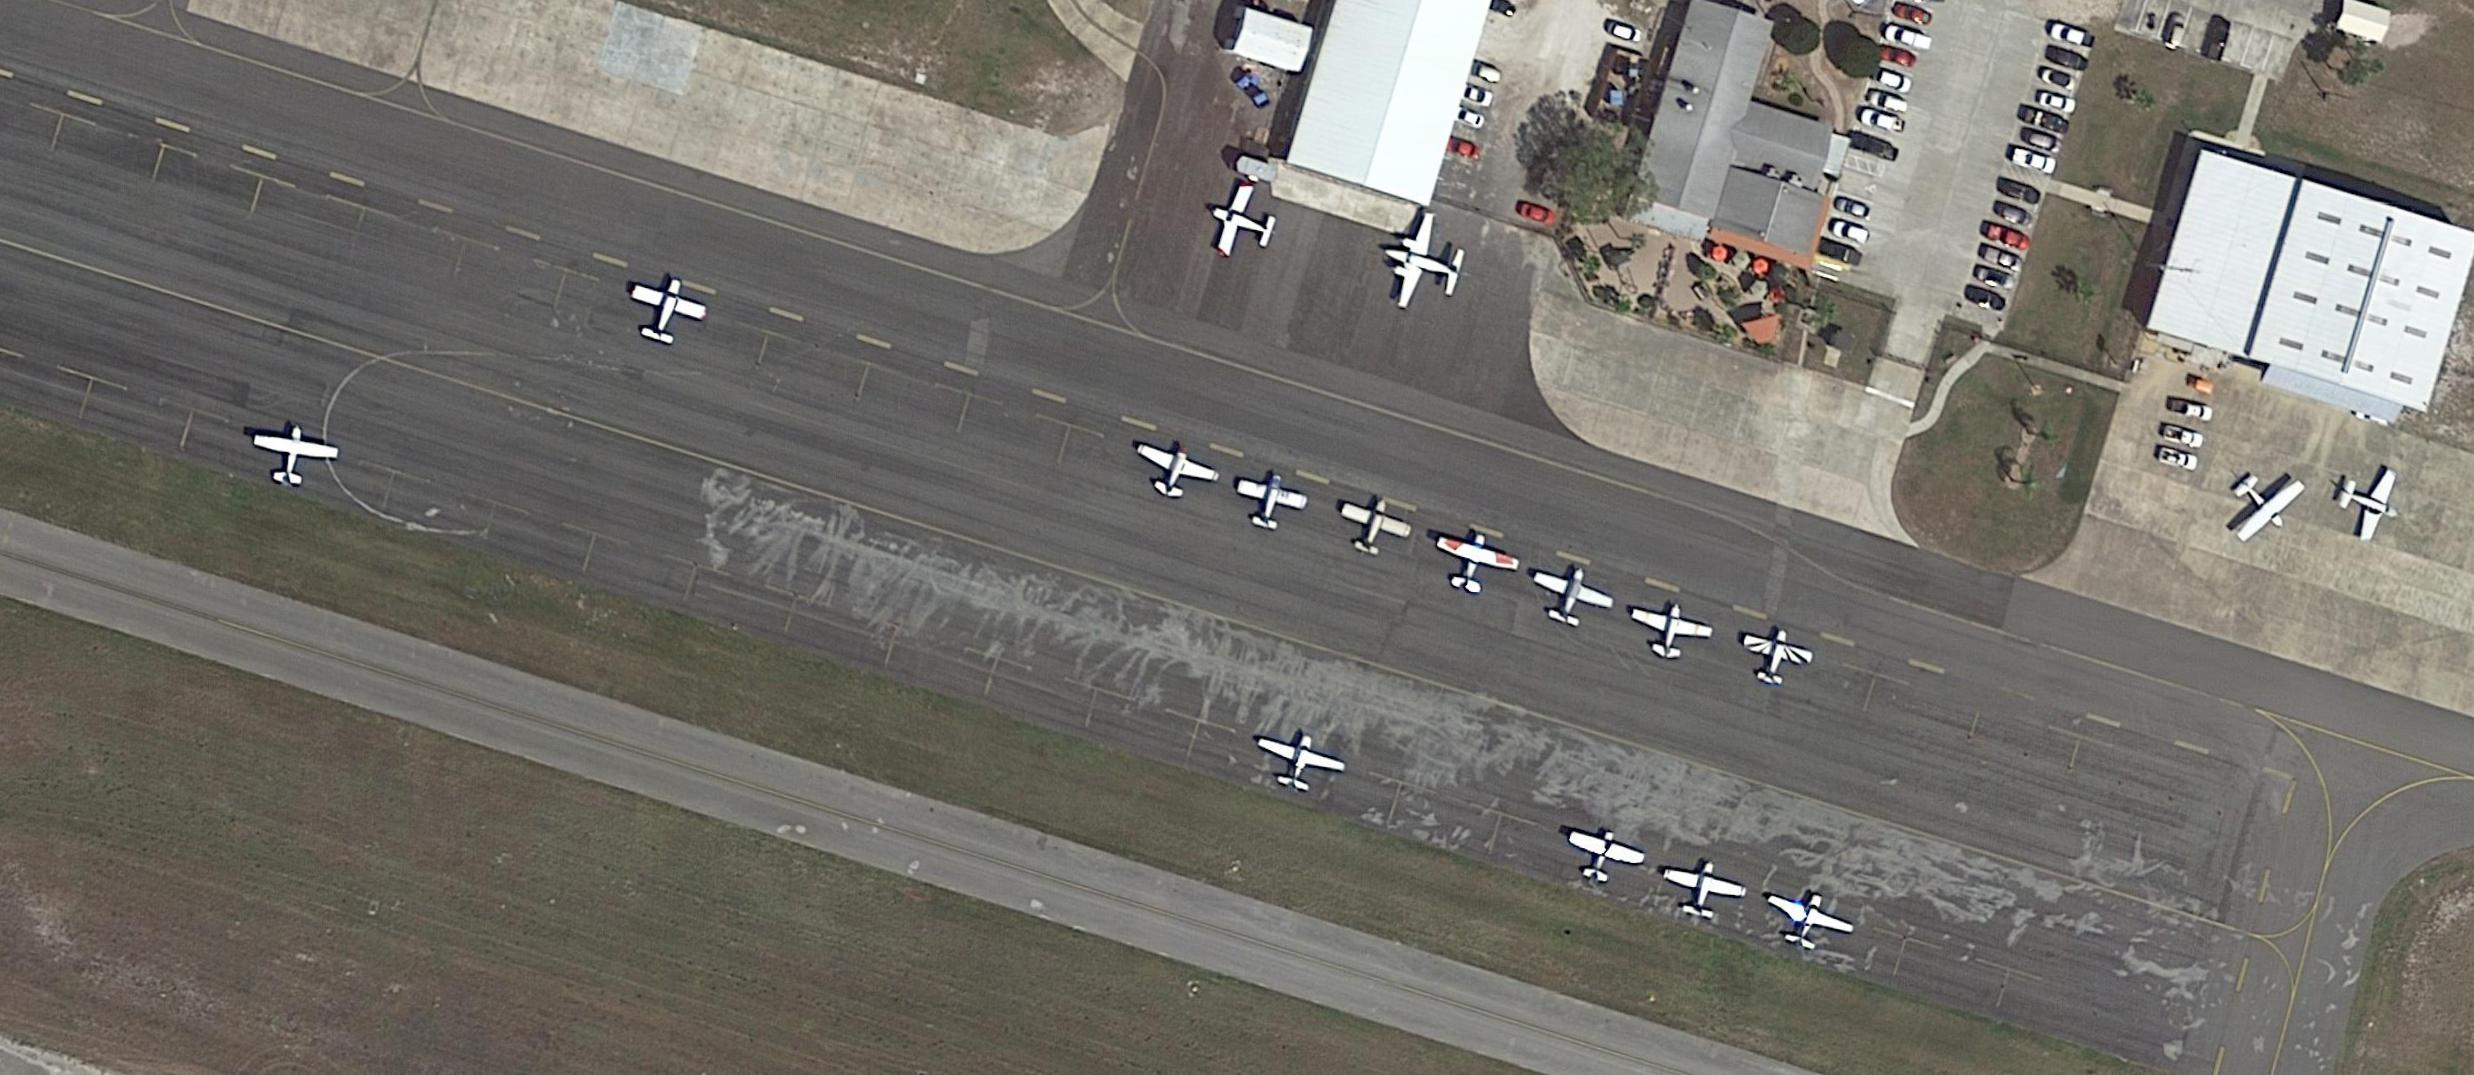plane: (1373, 202, 1474, 327), (2211, 450, 2313, 552), (2326, 455, 2414, 554), (1756, 879, 1860, 961), (1521, 552, 1620, 638), (1201, 172, 1284, 272), (620, 267, 715, 354), (1428, 523, 1526, 603), (1125, 433, 1224, 511), (1248, 725, 1351, 800), (1654, 852, 1753, 930), (1327, 488, 1418, 568), (249, 418, 341, 497), (1557, 819, 1650, 892), (1624, 595, 1717, 668), (1736, 620, 1818, 695), (1231, 466, 1311, 535)
